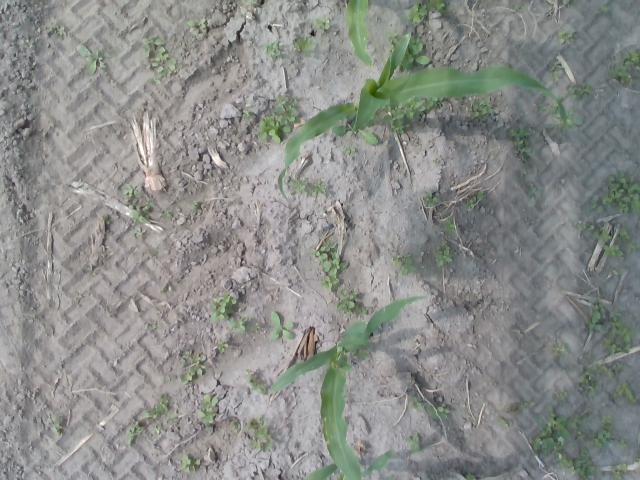Maize: (277, 30, 567, 198), (271, 295, 429, 480), (292, 447, 392, 480), (346, 0, 374, 67)
Weeds: (382, 95, 442, 134), (530, 405, 572, 456), (258, 93, 300, 143), (140, 34, 178, 86), (310, 241, 348, 292), (538, 95, 582, 135), (330, 112, 380, 146), (601, 172, 640, 214), (602, 312, 636, 355), (76, 43, 120, 75), (393, 35, 429, 68), (246, 415, 274, 453), (508, 126, 533, 163), (180, 351, 207, 385), (337, 288, 368, 316), (208, 292, 236, 322), (590, 414, 614, 448), (140, 393, 169, 419), (268, 311, 294, 339), (197, 392, 219, 425), (574, 448, 596, 480), (586, 299, 608, 330), (578, 368, 600, 398), (391, 252, 418, 274), (572, 408, 590, 440), (468, 98, 493, 120), (610, 384, 638, 403), (406, 0, 428, 24), (591, 361, 622, 378), (608, 66, 634, 86), (128, 202, 153, 222), (229, 317, 260, 333), (557, 448, 576, 473), (568, 82, 594, 100), (526, 183, 544, 209), (463, 190, 484, 212), (246, 372, 266, 394), (434, 243, 453, 266), (548, 59, 566, 83), (292, 36, 316, 54), (179, 454, 200, 474), (621, 49, 640, 71), (384, 30, 401, 53), (591, 226, 612, 244), (427, 0, 452, 15), (586, 194, 604, 214), (288, 178, 308, 196), (122, 182, 144, 198), (428, 404, 450, 420), (552, 340, 570, 359), (442, 218, 459, 238), (265, 40, 282, 60), (128, 422, 142, 446), (610, 462, 628, 480), (188, 17, 206, 35), (349, 345, 370, 360), (408, 396, 426, 413), (406, 434, 421, 454), (50, 415, 64, 436), (46, 24, 67, 38), (421, 191, 438, 208), (558, 28, 576, 44), (603, 244, 623, 257), (309, 180, 325, 196), (616, 227, 630, 243), (316, 16, 332, 30), (577, 220, 595, 232), (228, 420, 241, 436), (216, 338, 228, 353), (512, 0, 526, 12), (192, 200, 204, 214), (496, 416, 510, 428), (557, 390, 569, 403), (626, 244, 640, 255), (242, 109, 256, 119), (518, 401, 536, 408), (609, 265, 620, 276), (132, 226, 144, 236), (163, 210, 176, 219), (598, 5, 610, 14), (154, 424, 164, 434), (618, 438, 628, 448), (584, 352, 596, 360), (562, 0, 580, 5), (464, 473, 476, 480), (518, 169, 528, 177), (346, 146, 356, 154), (104, 213, 110, 225), (149, 324, 159, 330), (635, 456, 640, 466), (164, 376, 170, 383), (247, 0, 255, 4), (387, 475, 392, 480)
